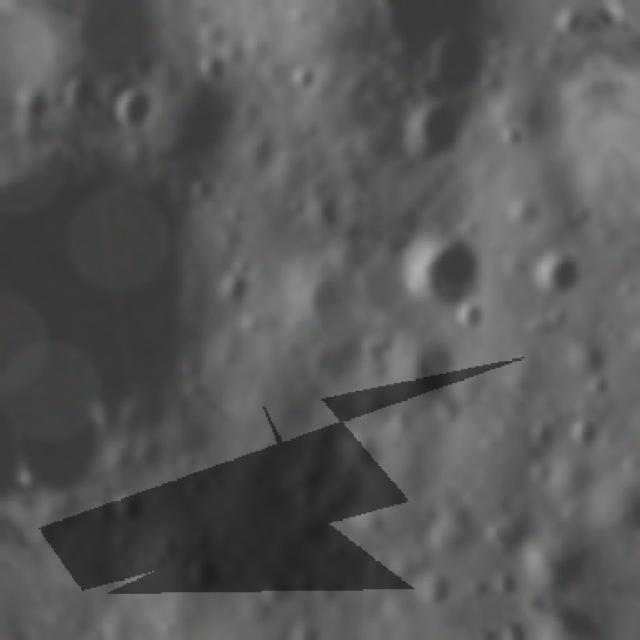crater: (0, 133, 252, 518), (278, 256, 385, 378), (384, 89, 482, 185), (400, 227, 489, 324), (416, 21, 506, 108), (389, 330, 469, 421), (530, 530, 605, 605), (521, 239, 599, 310), (401, 567, 459, 627), (55, 69, 107, 129), (180, 546, 235, 602), (104, 84, 158, 138), (562, 408, 610, 461), (275, 62, 330, 105), (488, 564, 532, 610), (574, 369, 617, 409)
